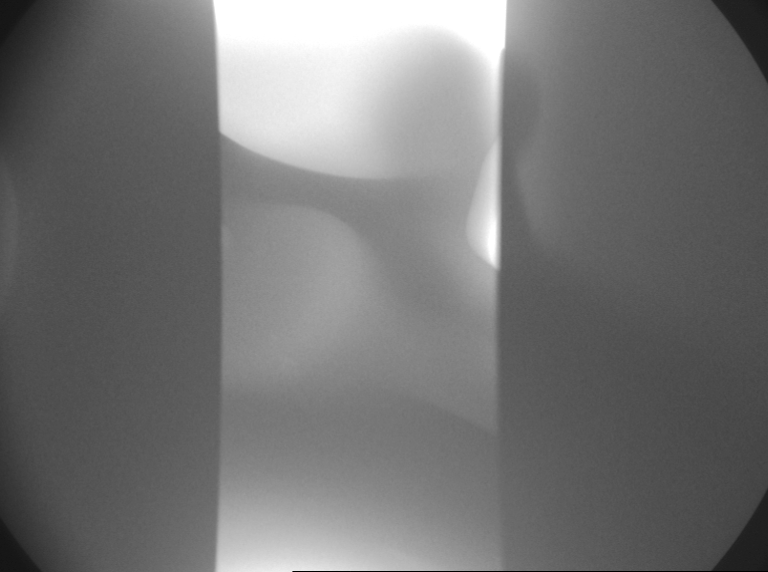defect: (266, 332, 308, 383)
